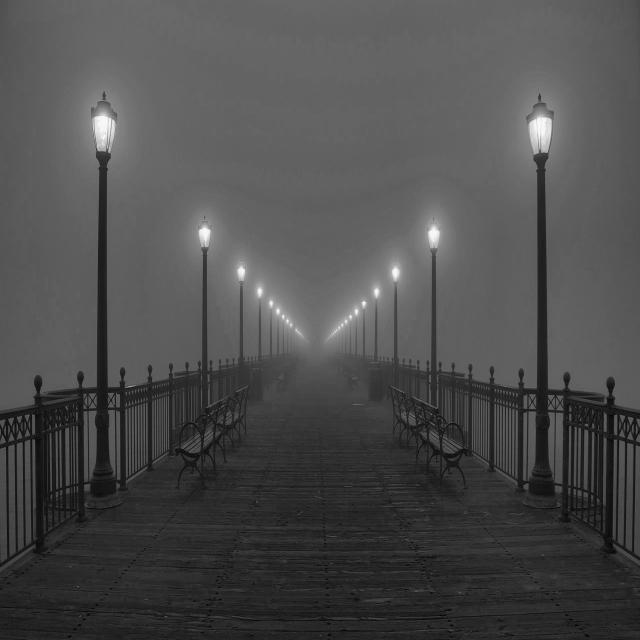pole: (530, 168, 554, 479), (93, 168, 113, 468), (196, 254, 213, 396), (429, 258, 440, 414), (234, 287, 246, 369), (392, 291, 404, 371), (372, 314, 382, 361)
